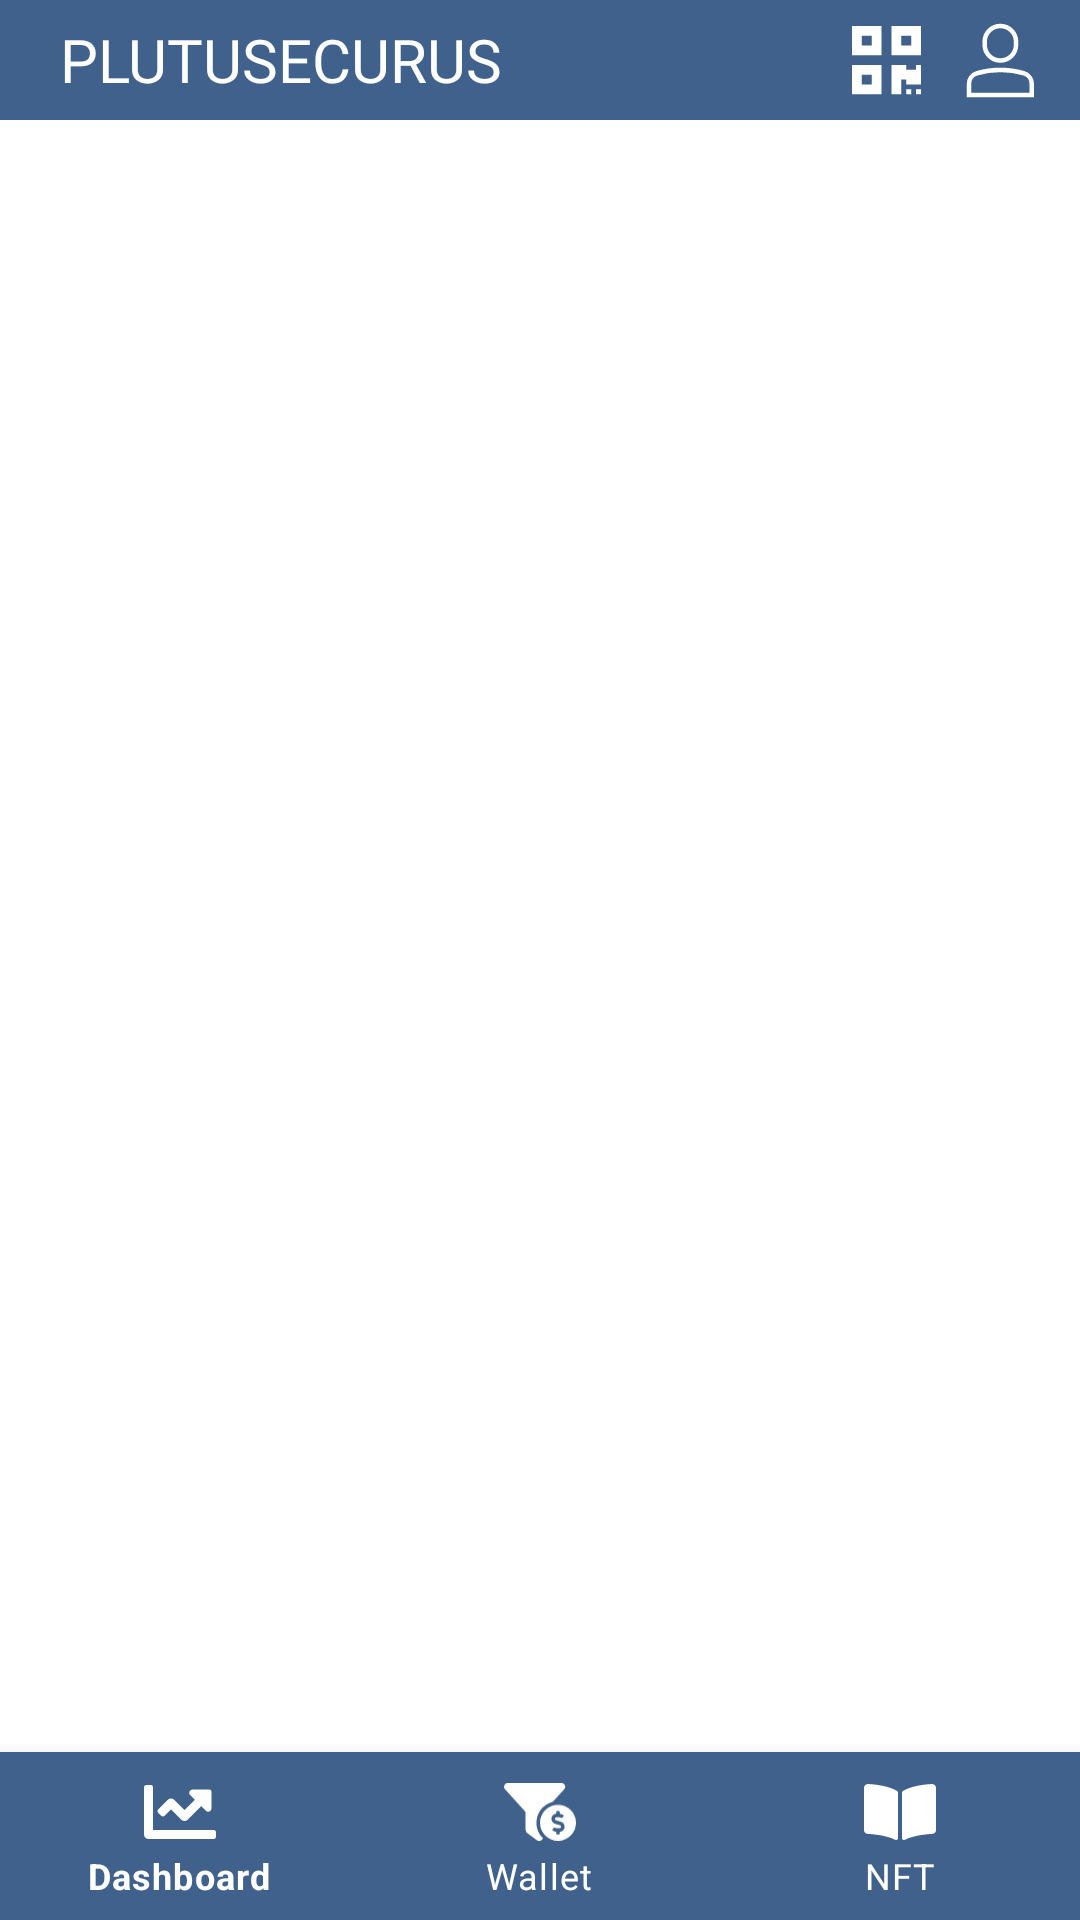

Icons on this 1080×1920 Android screen, each with its box as {"x1": x1, "y1": y1, "x2": x2, "y2": y2}:
qrcode: {"x1": 852, "y1": 26, "x2": 921, "y2": 95}
